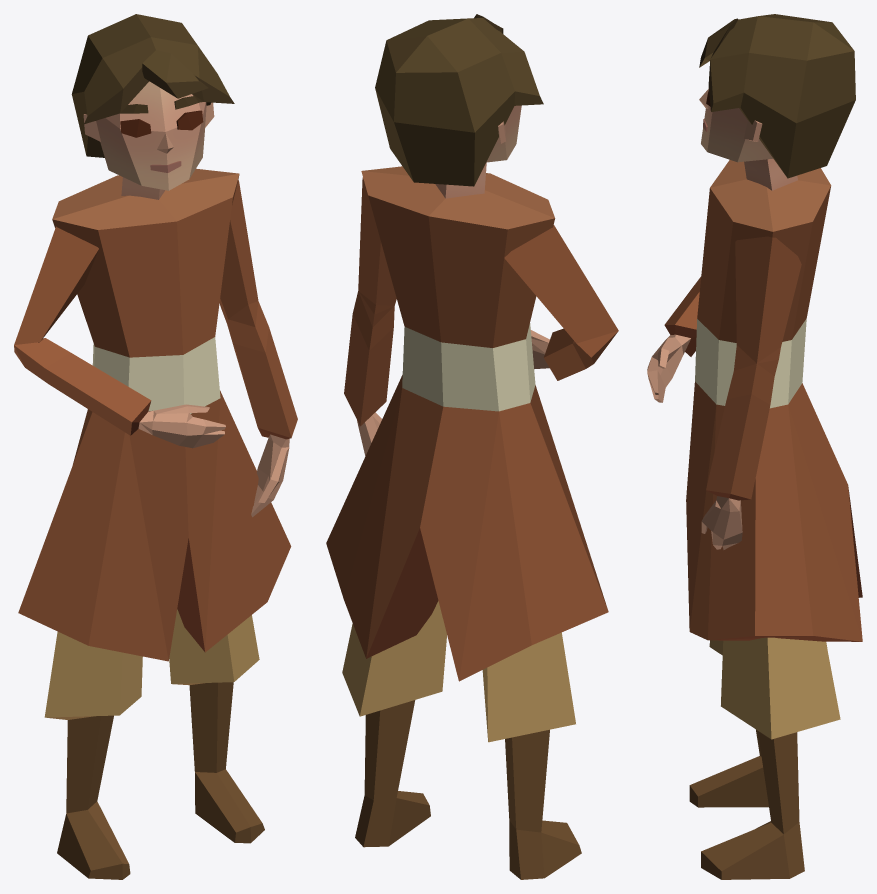
The model's file is vendeur.glb.
3 views of the same model, side by side, from view 1: azimuth 30°, elevation 25°; view 2: azimuth 150°, elevation 25°; view 3: azimuth 270°, elevation 25° (orthographic). The views are drawn at different scales.
Parts seen in each view (by area): view 1: Object_2; view 2: Object_2; view 3: Object_2.
Boxes of the visible parts, x1,y1,x2,y2 form: Object_2: (14, 14, 297, 879); Object_2: (326, 14, 618, 879); Object_2: (647, 14, 862, 879).
Bounding box in the file's own units: 0.6424 × 1.76 × 0.4215.
1 material, 1 textured.
